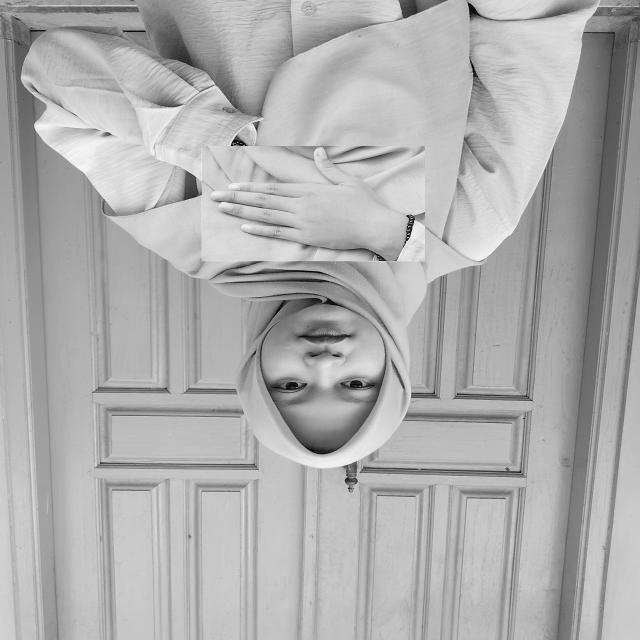tolong: (201, 146, 425, 262)
